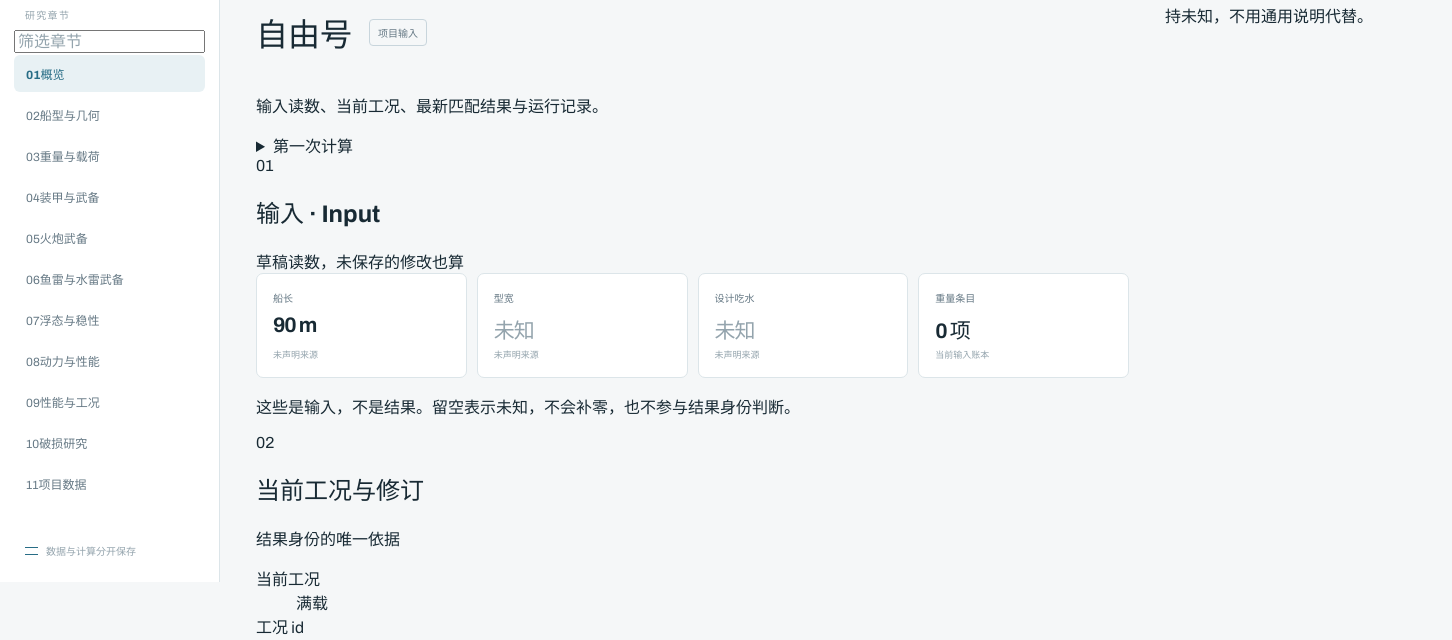
Test: deck freeboard form › shows a prompt instead of a zero aggregate when there is no run
The image size is (1452, 640).
Click the button "07浮态与稳性" at (110, 320), box [14,301,205,338]
(page scrolled)
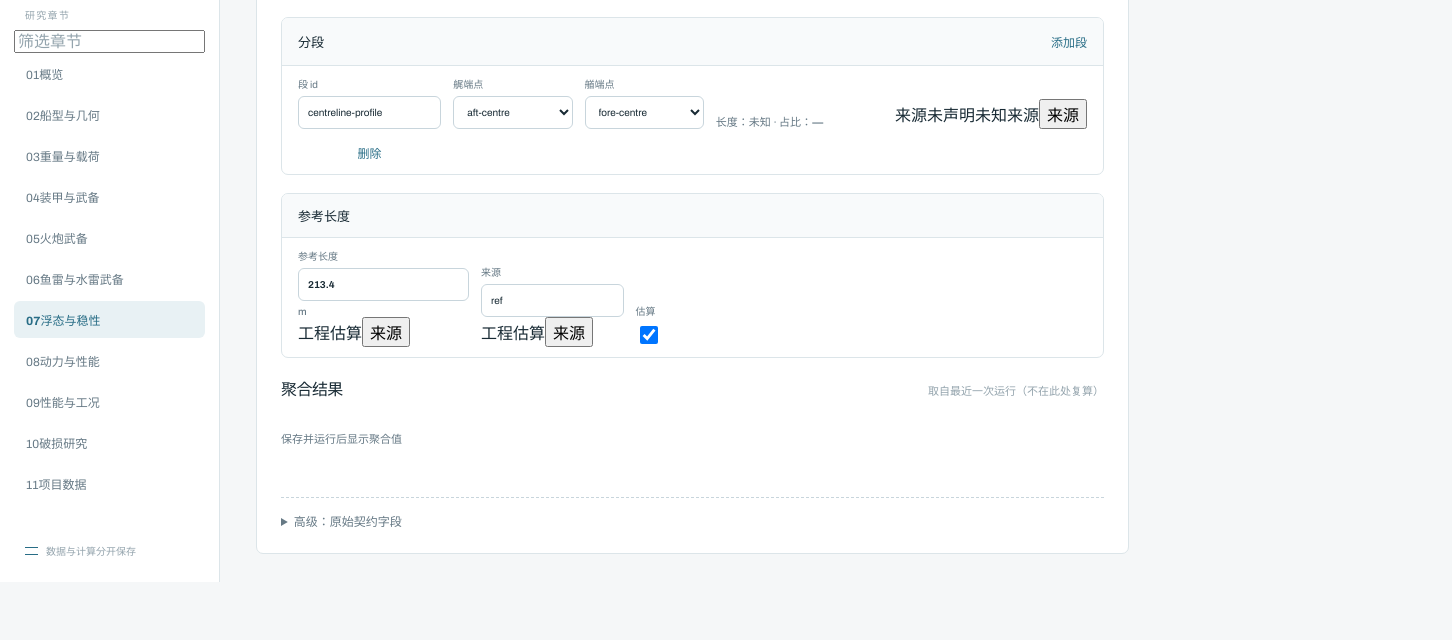
Check: the text "保存并运行后显示聚合值" is shown, box [281,433,402,445]
